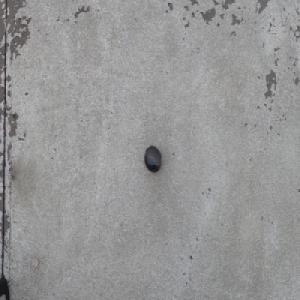FuelCap: (143, 145, 161, 172)
